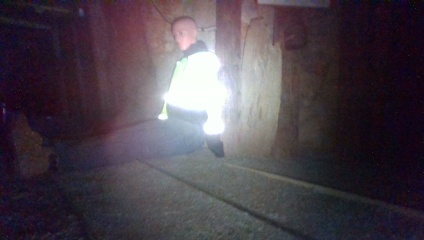manikin: (16, 15, 231, 178)
